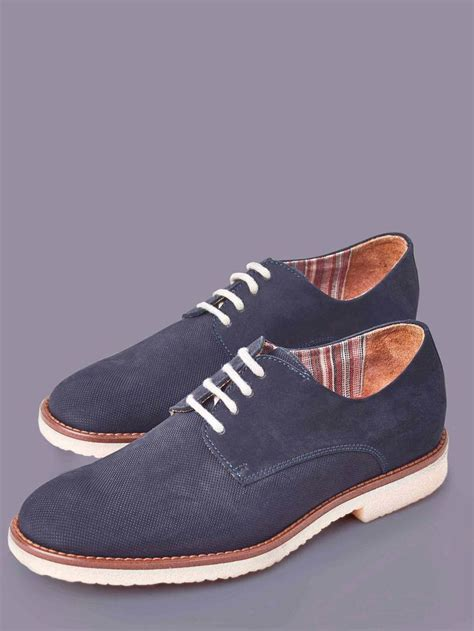gamuza: (213, 232, 447, 474)
